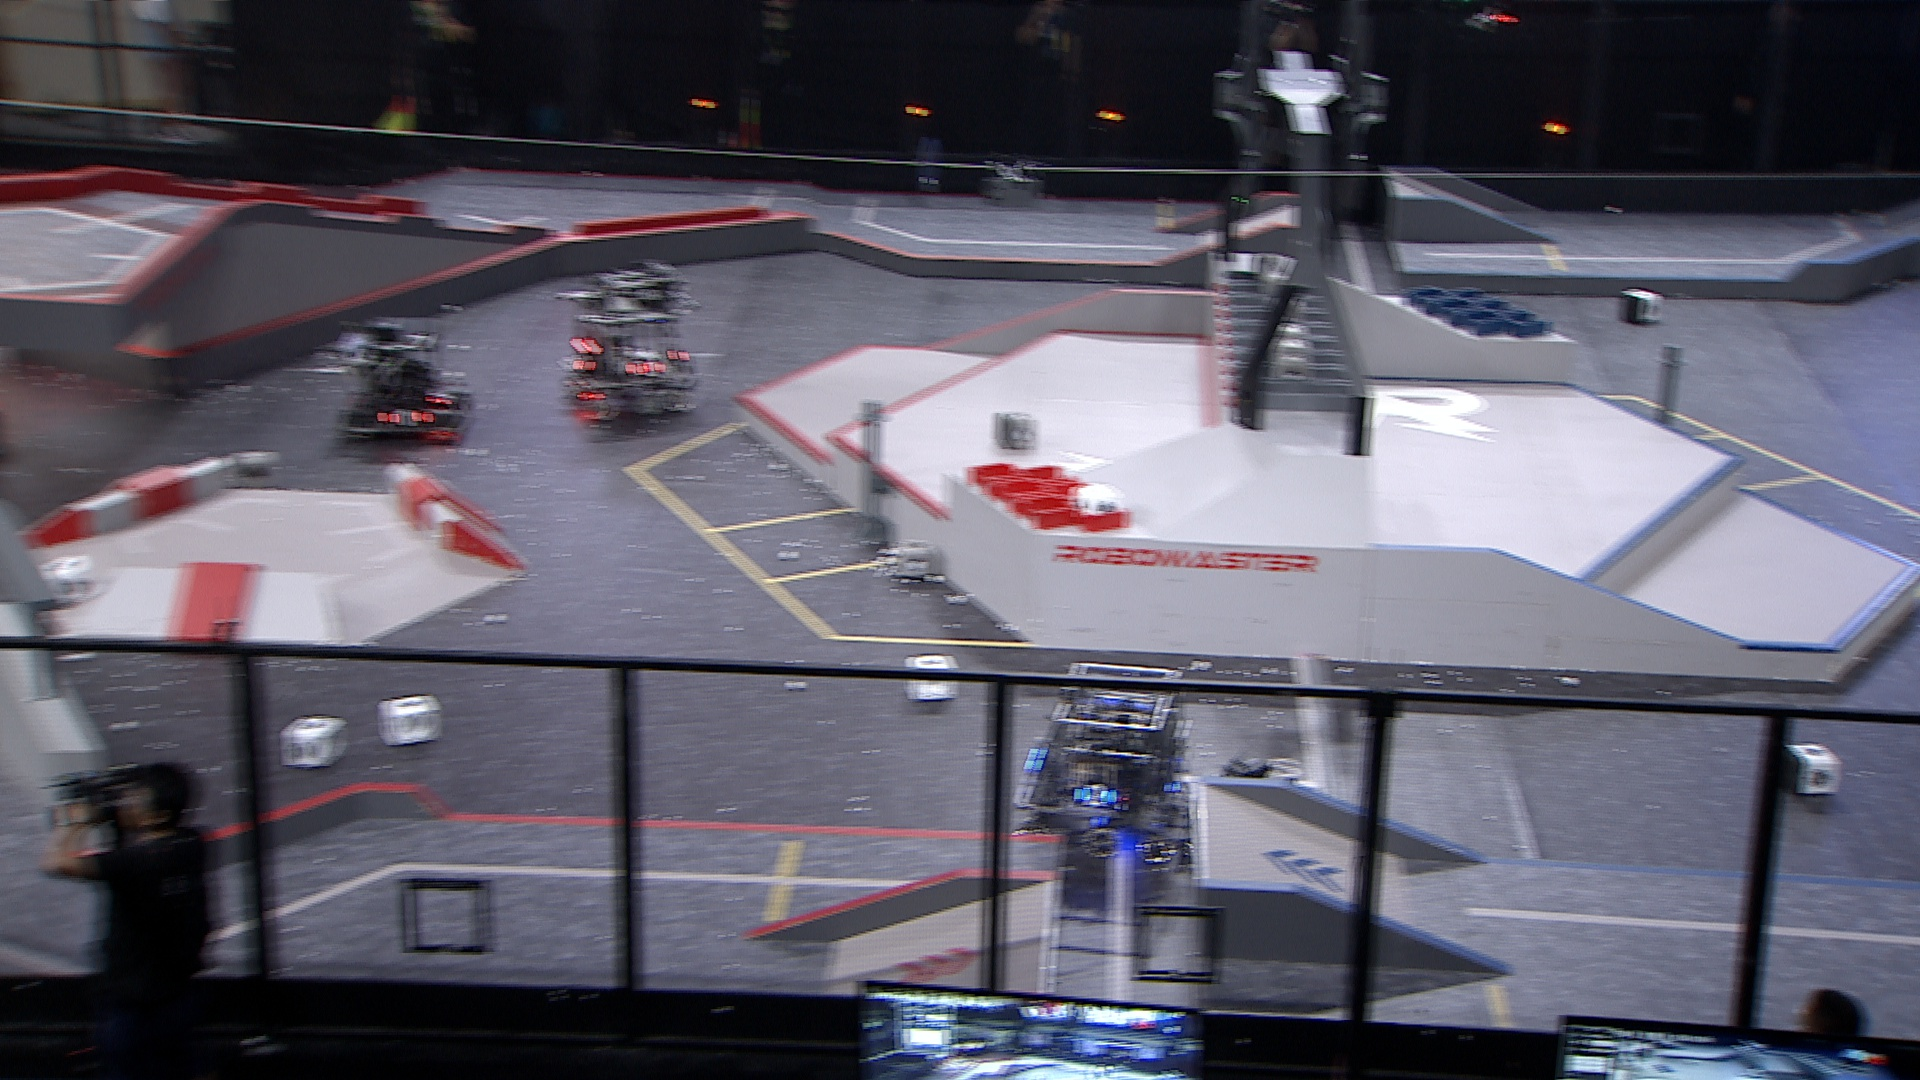armor: (375, 406, 436, 433), (1073, 782, 1117, 807), (622, 361, 666, 380), (570, 349, 597, 373), (429, 389, 456, 406)
car: (1010, 659, 1199, 872), (553, 257, 699, 427), (324, 314, 469, 448)
